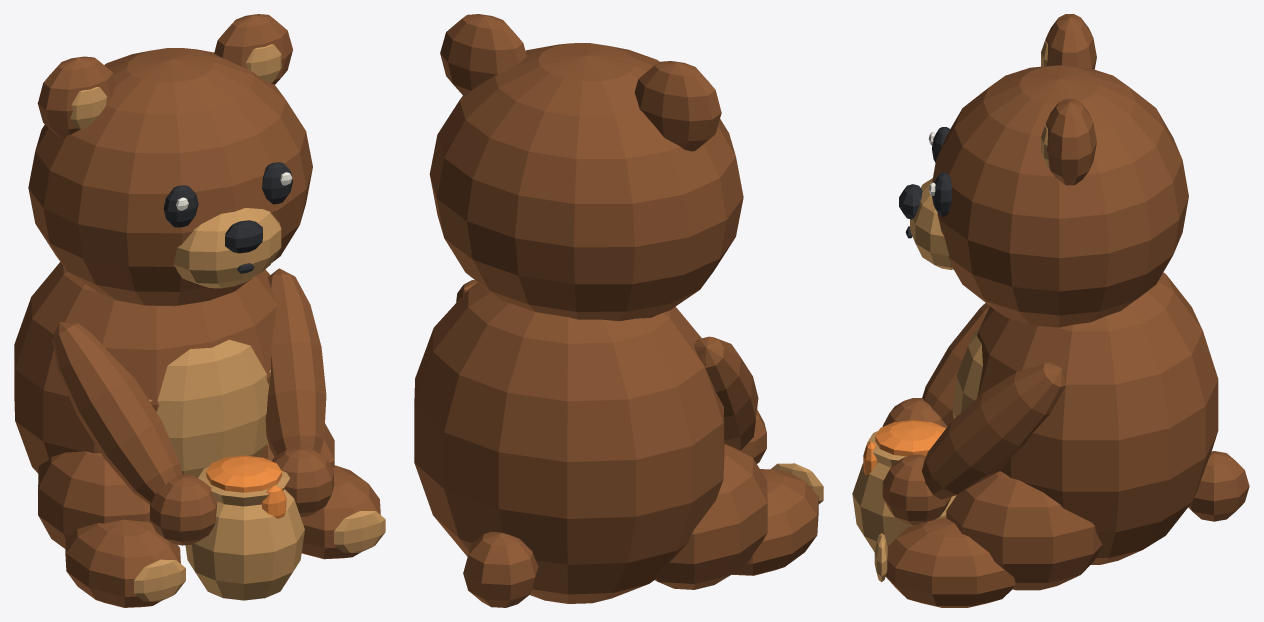
File: honey-bear-cub.glb
3 views of the same model, side by side, from view 1: azimuth 30°, elevation 25°; view 2: azimuth 150°, elevation 25°; view 3: azimuth 270°, elevation 25° (orthographic). The views are drawn at different scales.
Visible parts, largest first — view 1: BearCub; view 2: BearCub; view 3: BearCub.
Part boxes in pixels (<box>): BearCub: <box>14,14,385,607</box>; BearCub: <box>414,14,823,607</box>; BearCub: <box>852,14,1249,607</box>.
Bounding box in the file's own units: 1.62 × 2.6 × 1.92.
